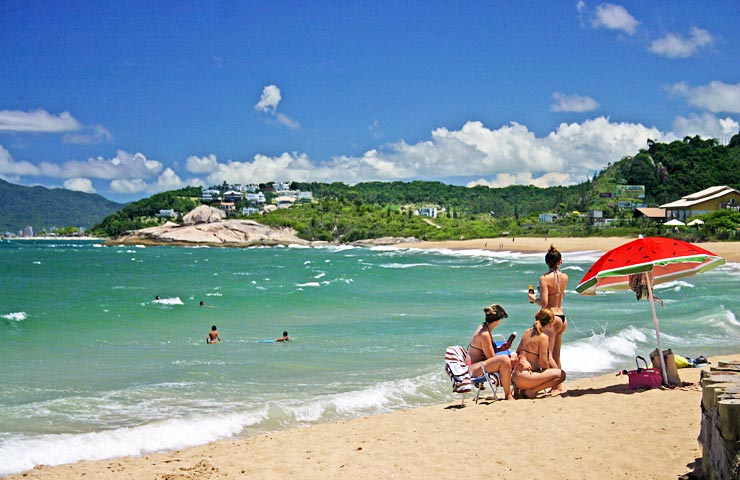Humano: (510, 308, 571, 402), (467, 300, 516, 403), (532, 244, 567, 331), (207, 320, 223, 349)
